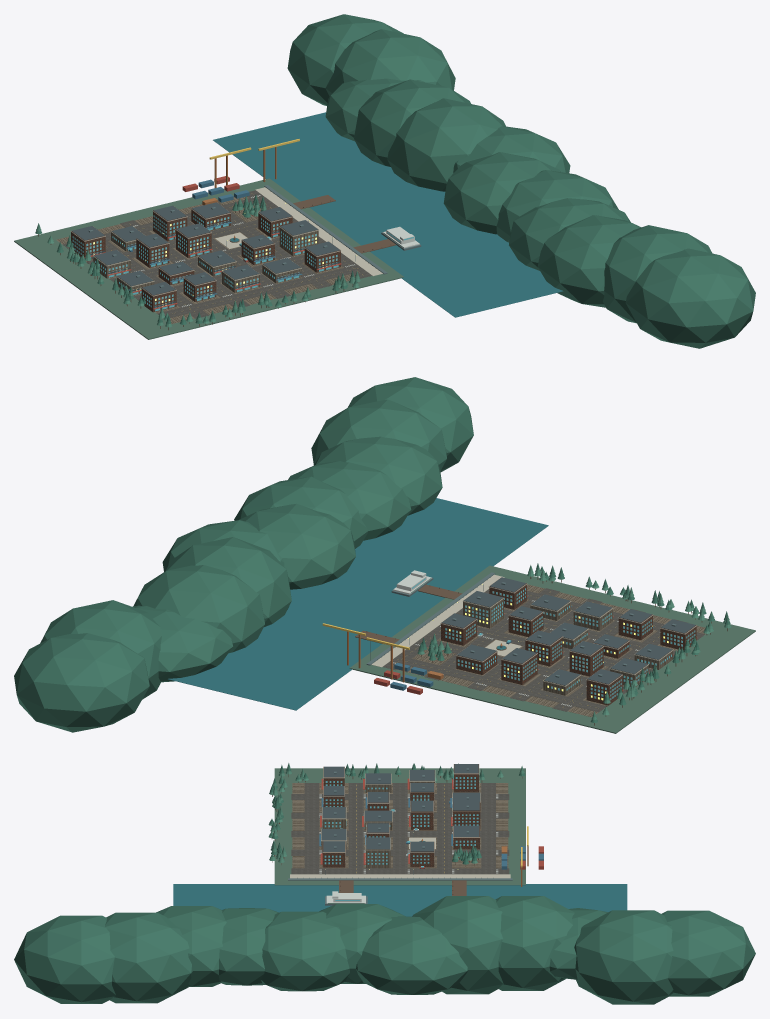
Rendered from bremerton.glb.
3 renders of one model, top to bottom at view 1: azimuth 30°, elevation 25°; view 2: azimuth 150°, elevation 25°; view 3: azimuth 270°, elevation 25°, orthographic. The views are drawn at different scales.
Parts seen in each view (by area): view 1: Bremerton_pine, Bremerton_water, Bremerton_grass, Bremerton_asphalt, Bremerton_roof, Bremerton_brick2, Bremerton_trim, Bremerton_pavement, Bremerton_plaster, Bremerton_glass, Bremerton_brick, Bremerton_pine2 (+5 smaller); view 2: Bremerton_pine, Bremerton_water, Bremerton_grass, Bremerton_asphalt, Bremerton_roof, Bremerton_brick2, Bremerton_trim, Bremerton_pavement, Bremerton_plaster, Bremerton_brick, Bremerton_glass, Bremerton_pine2 (+3 smaller); view 3: Bremerton_pine, Bremerton_asphalt, Bremerton_water, Bremerton_grass, Bremerton_roof, Bremerton_pavement, Bremerton_trim, Bremerton_brick2, Bremerton_brick, Bremerton_plaster, Bremerton_pine2, Bremerton_glass (+5 smaller).
Boxes of the visible parts, left/top/right/bottom form: Bremerton_pine: left=35, top=14, right=755, bottom=348; Bremerton_water: left=213, top=112, right=563, bottom=317; Bremerton_grass: left=14, top=178, right=403, bottom=339; Bremerton_asphalt: left=62, top=190, right=371, bottom=318; Bremerton_roof: left=72, top=202, right=339, bottom=307; Bremerton_brick2: left=71, top=227, right=340, bottom=301; Bremerton_trim: left=70, top=187, right=383, bottom=306; Bremerton_pavement: left=56, top=196, right=355, bottom=323; Bremerton_plaster: left=93, top=221, right=318, bottom=295; Bremerton_glass: left=72, top=214, right=413, bottom=311; Bremerton_brick: left=141, top=207, right=292, bottom=312; Bremerton_pine2: left=36, top=196, right=403, bottom=327; Bremerton_pine: left=14, top=377, right=730, bottom=732; Bremerton_water: left=167, top=498, right=548, bottom=710; Bremerton_grass: left=349, top=565, right=755, bottom=733; Bremerton_asphalt: left=383, top=588, right=704, bottom=712; Bremerton_roof: left=441, top=577, right=695, bottom=685; Bremerton_brick2: left=489, top=578, right=652, bottom=705; Bremerton_trim: left=371, top=574, right=696, bottom=699; Bremerton_pavement: left=397, top=584, right=705, bottom=717; Bremerton_plaster: left=463, top=594, right=673, bottom=695; Bremerton_brick: left=441, top=616, right=696, bottom=684; Bremerton_glass: left=412, top=578, right=695, bottom=700; Bremerton_pine2: left=411, top=565, right=731, bottom=719; Bremerton_pine: left=14, top=763, right=755, bottom=1004; Bremerton_asphalt: left=291, top=783, right=509, bottom=874; Bremerton_water: left=173, top=841, right=627, bottom=916; Bremerton_grass: left=274, top=768, right=525, bottom=885; Bremerton_roof: left=321, top=764, right=480, bottom=868; Bremerton_pavement: left=292, top=783, right=508, bottom=868; Bremerton_trim: left=290, top=764, right=510, bottom=878; Bremerton_brick2: left=322, top=764, right=478, bottom=867; Bremerton_brick: left=323, top=767, right=480, bottom=867; Bremerton_plaster: left=321, top=770, right=480, bottom=868; Bremerton_pine2: left=268, top=763, right=524, bottom=903; Bremerton_glass: left=322, top=774, right=478, bottom=900.
Bounding box in the file's own units: 434 × 80.92 × 605.
20 materials, 5 textured.
